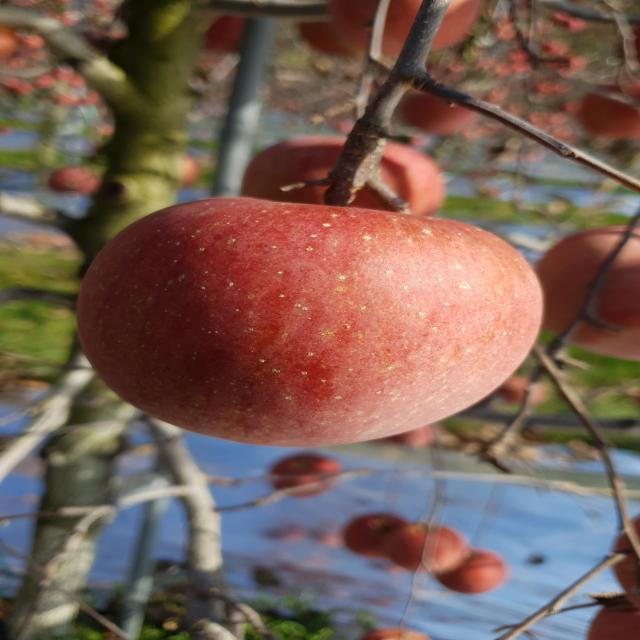fresh: (58, 187, 561, 458)
